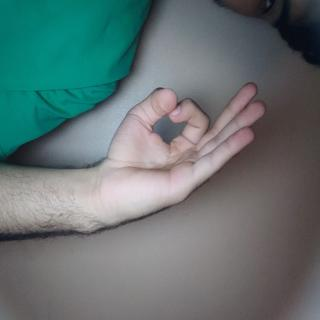Space: (52, 66, 176, 317)
